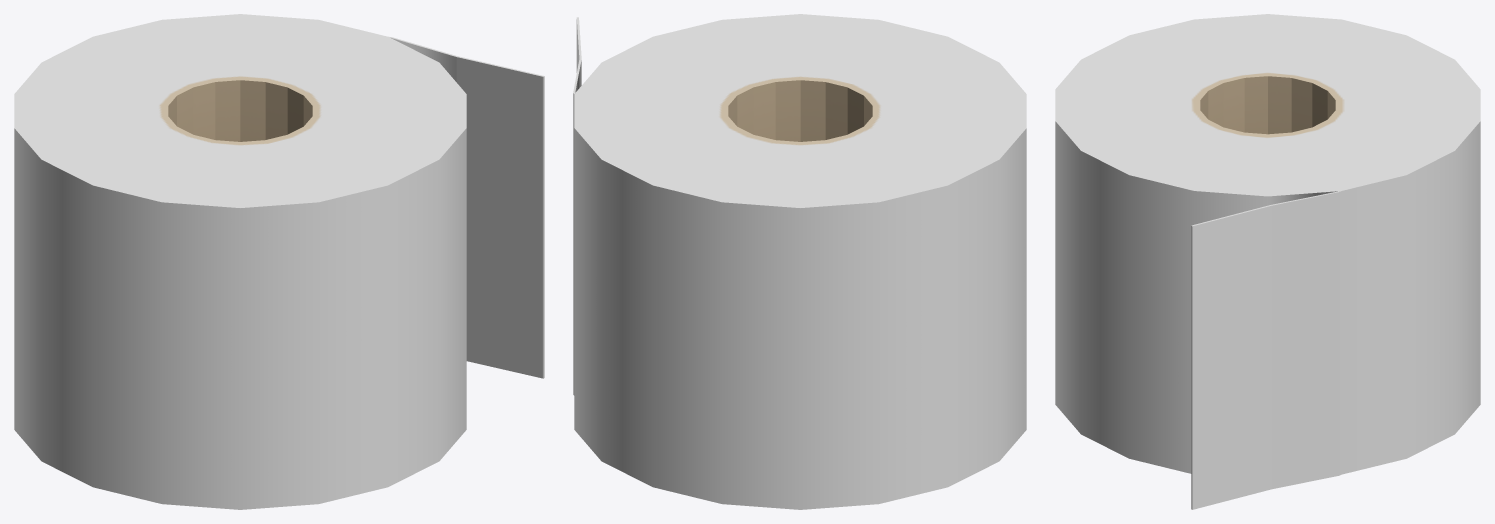
File: kleenex.gltf
3 renders of one model, left to right at view 1: azimuth 30°, elevation 25°; view 2: azimuth 150°, elevation 25°; view 3: azimuth 270°, elevation 25°, orthographic. The views are drawn at different scales.
Parts seen in each view (by area): view 1: kleenex; view 2: kleenex; view 3: kleenex.
Boxes of the visible parts, x1,y1,x2,y2 form: kleenex: [14, 14, 544, 509]; kleenex: [573, 14, 1026, 509]; kleenex: [1055, 14, 1480, 509].
Bounding box in the file's own units: 1.04 × 0.6456 × 0.8773.
1 material, 1 textured.
